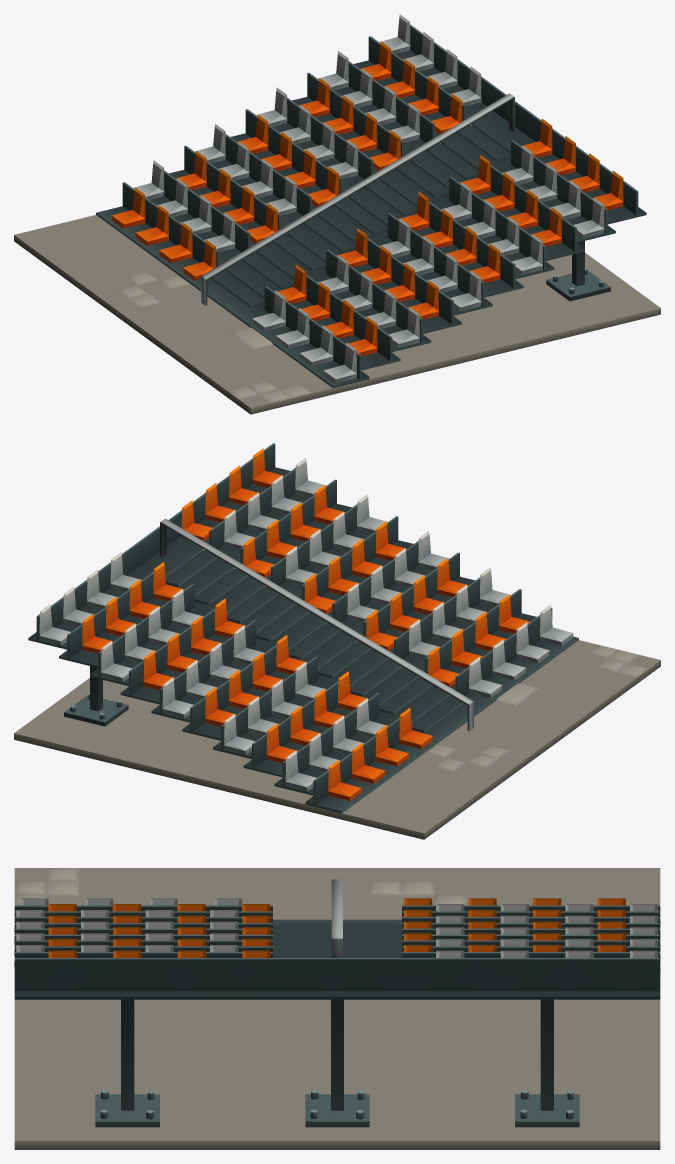
The model's file is Stand_1E.fbx.
3 views of the same model, one above another, from view 1: azimuth 30°, elevation 25°; view 2: azimuth 150°, elevation 25°; view 3: azimuth 270°, elevation 25° (orthographic). The views are drawn at different scales.
Visible parts, largest first — view 1: Stand_1E; view 2: Stand_1E; view 3: Stand_1E.
Part boxes in pixels (bbox=[...]): Stand_1E: bbox=[14, 14, 660, 414]; Stand_1E: bbox=[14, 443, 660, 839]; Stand_1E: bbox=[14, 868, 660, 1149].
Bounding box in the file's own units: 2000 × 655 × 2004.
